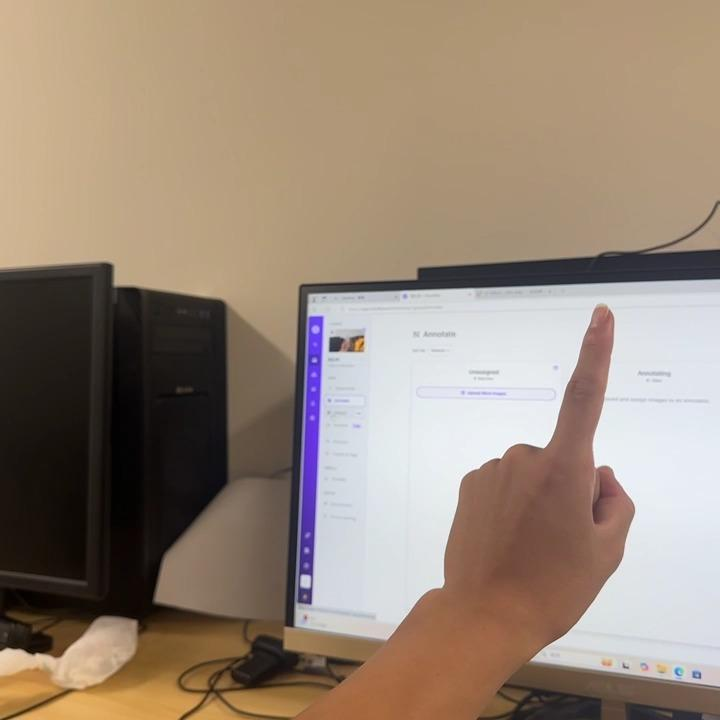without_gloves: (354, 278, 702, 714)
